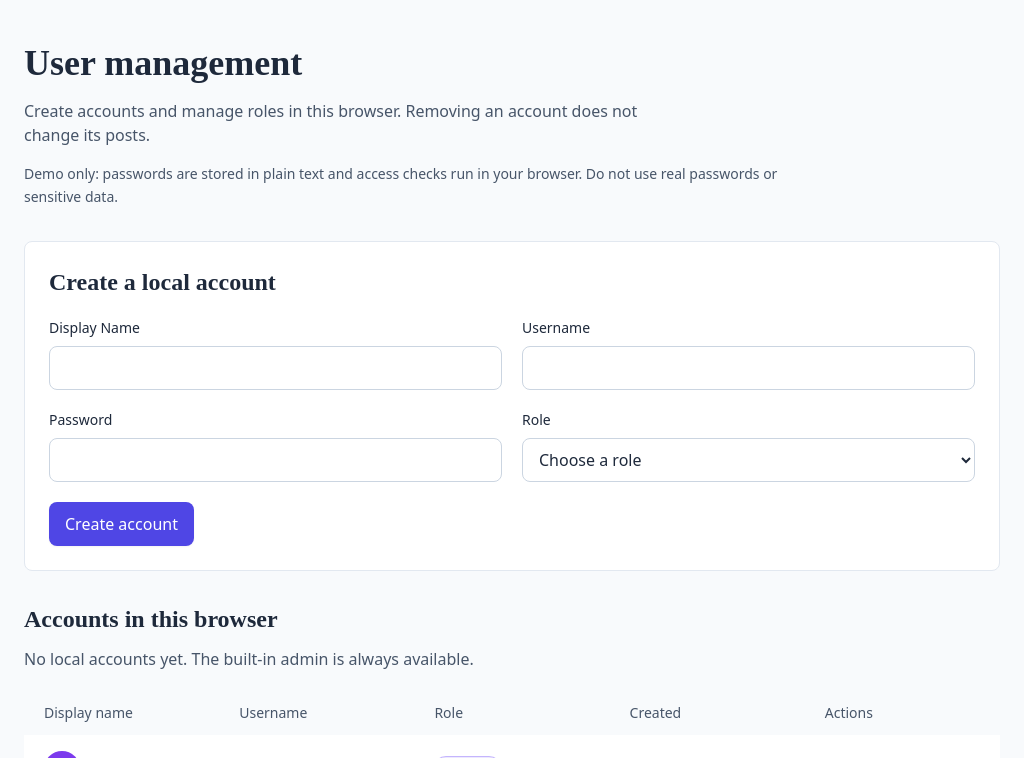
Test case: associates every required-field error with its input and retains entered values
Click the button "Create account" at (121,524), box [49,502,194,546]
(page scrolled)
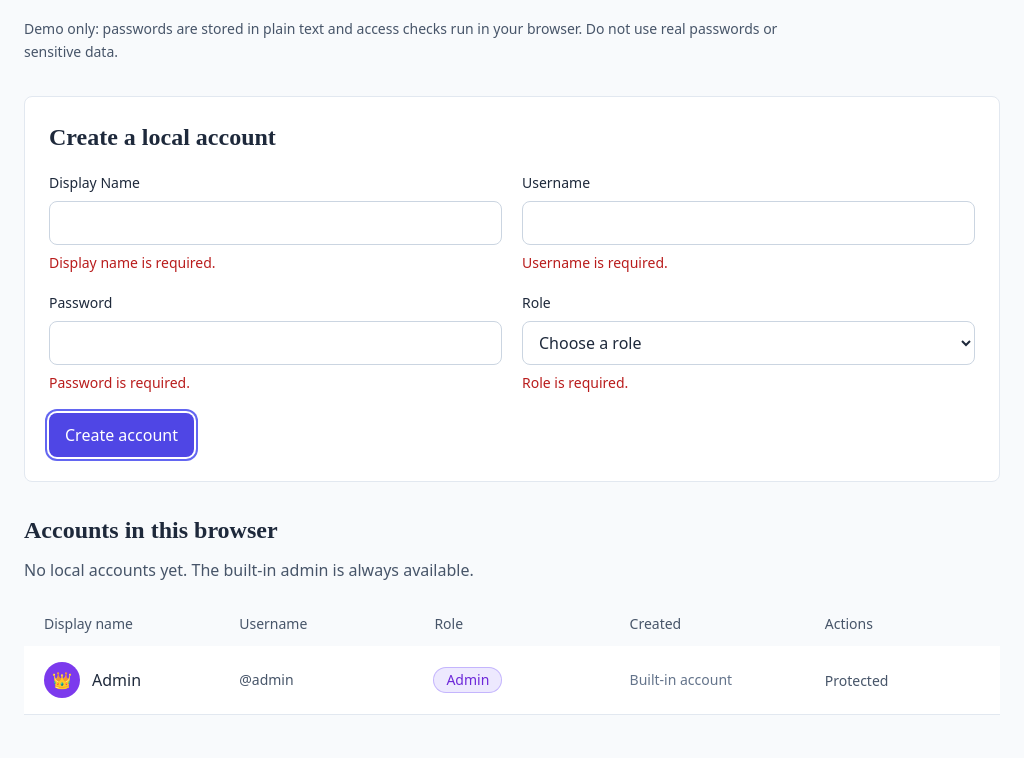
Now the number of messages is 4, box [49,252,216,272]; [522,252,668,272]; [49,372,190,392]; [522,372,628,392]
